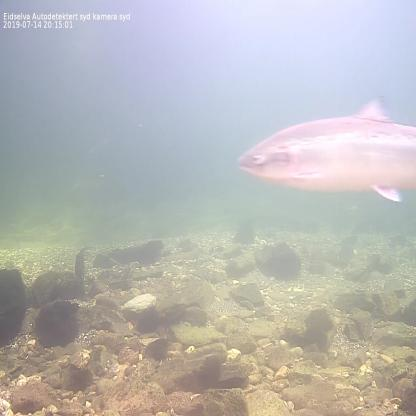salmon: (232, 88, 416, 209)
